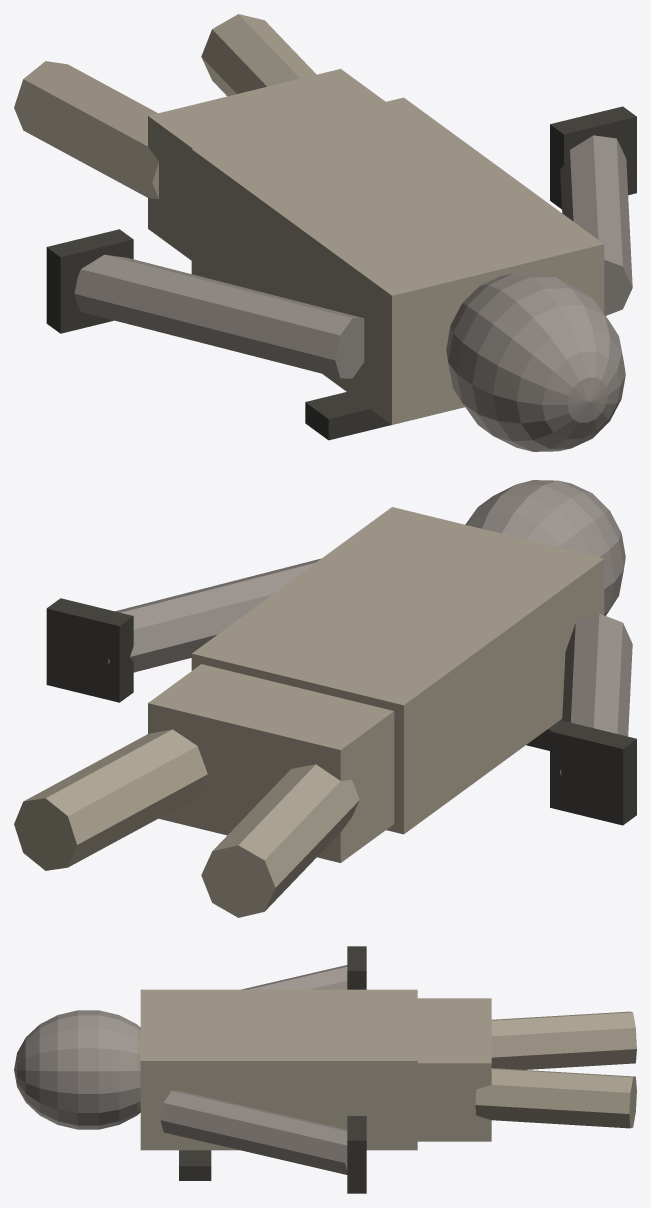
The model's file is lab_subject.obj.
The picture shows the model from 3 angles, top to bottom: view 1: azimuth 30°, elevation 25°; view 2: azimuth 150°, elevation 25°; view 3: azimuth 270°, elevation 25°; orthographic projection. The views are drawn at different scales.
Bounding box in the file's own units: 1.42 × 0.4012 × 1.92.
